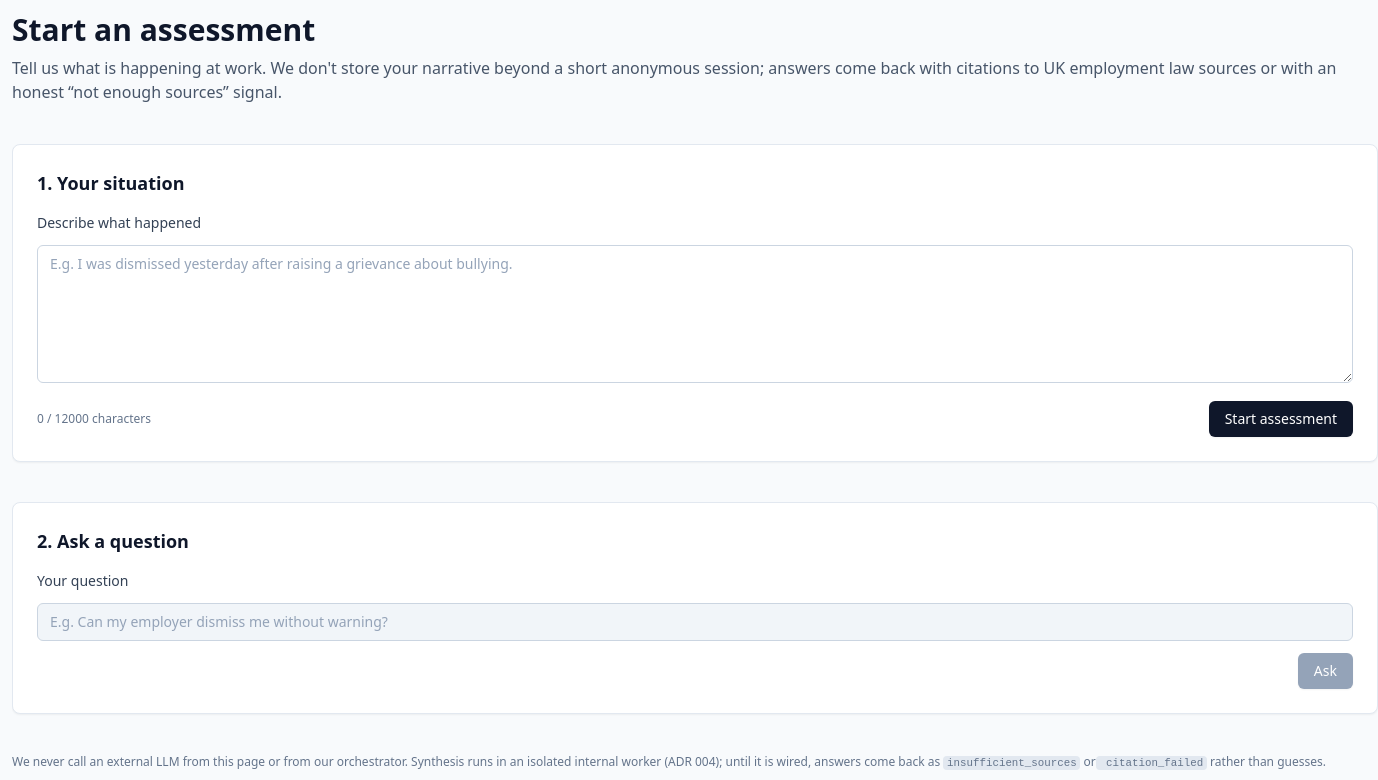
Test: /case/assessment page › renders an error alert when /api/case returns non-ok
Replace the text in the text box labelled "Describe what happened" with "I was dismissed without notice yesterday after raising a grievance about bullying at work last week." at x=695, y=314, box [37,245,1353,383]
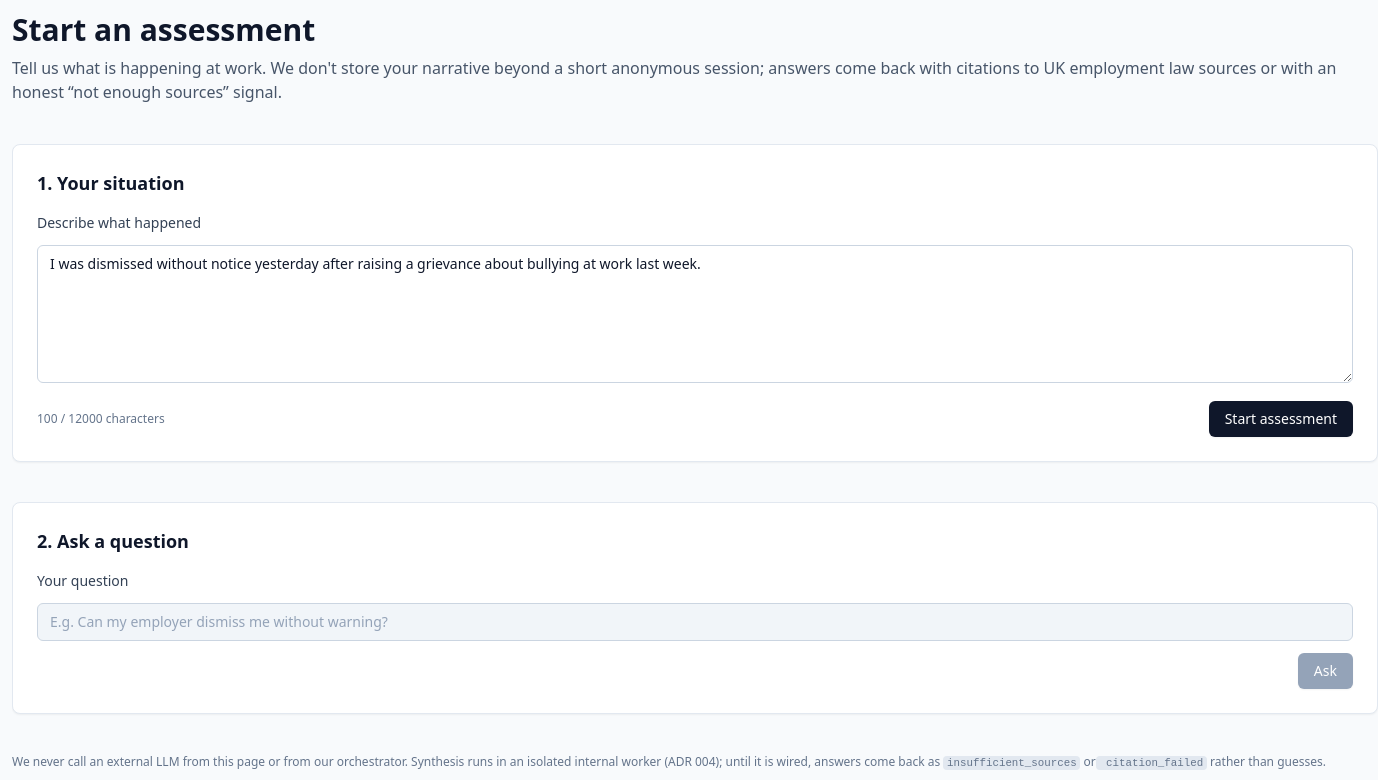
Submit the form labelled "Describe what happened", box [37,213,1353,437]
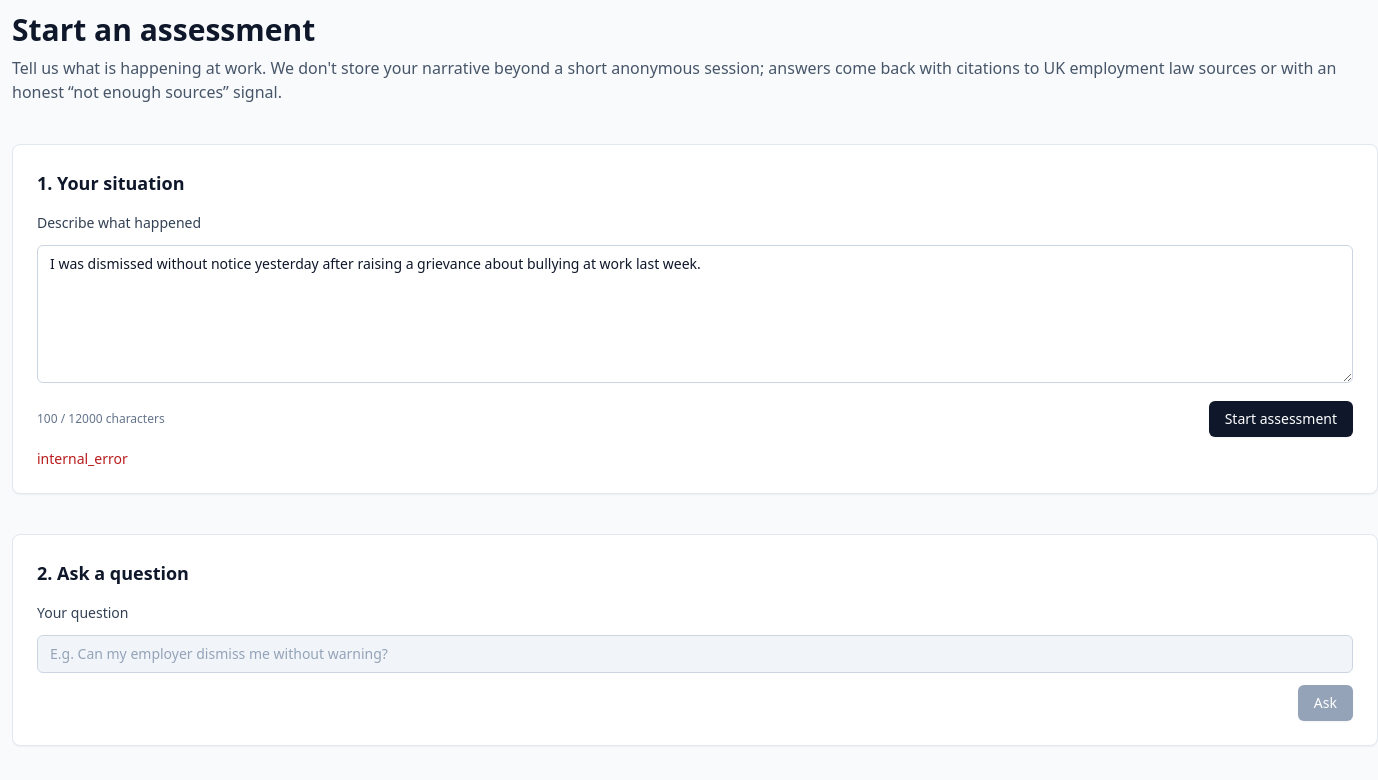
expect the message reads "internal_error": met, box [37,449,128,468]
